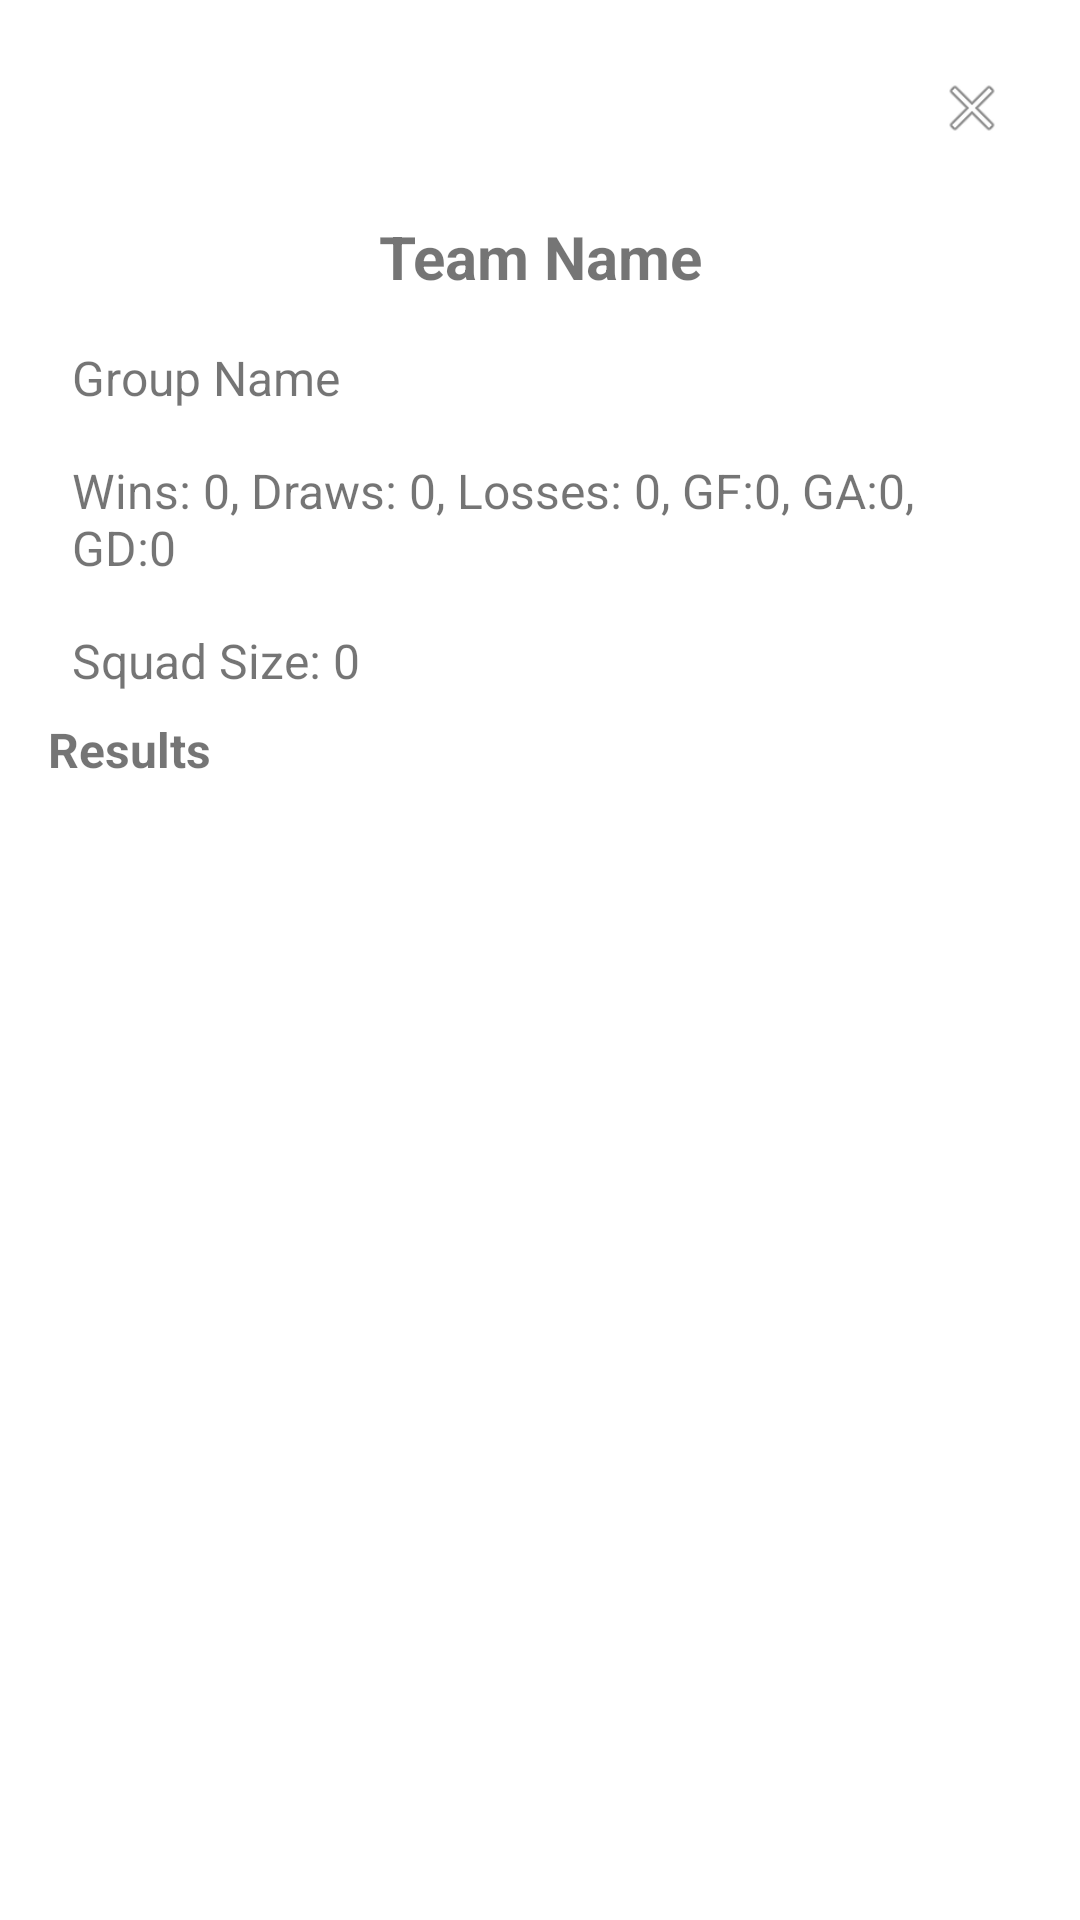

Icons on this 1080×1920 Android screen, each with the point to tap as (x=x, y=y):
Close: (x=972, y=108)
